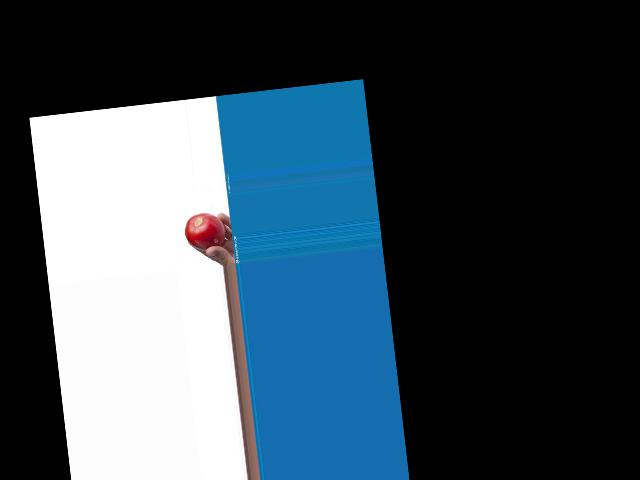tomato: (183, 210, 227, 252)
